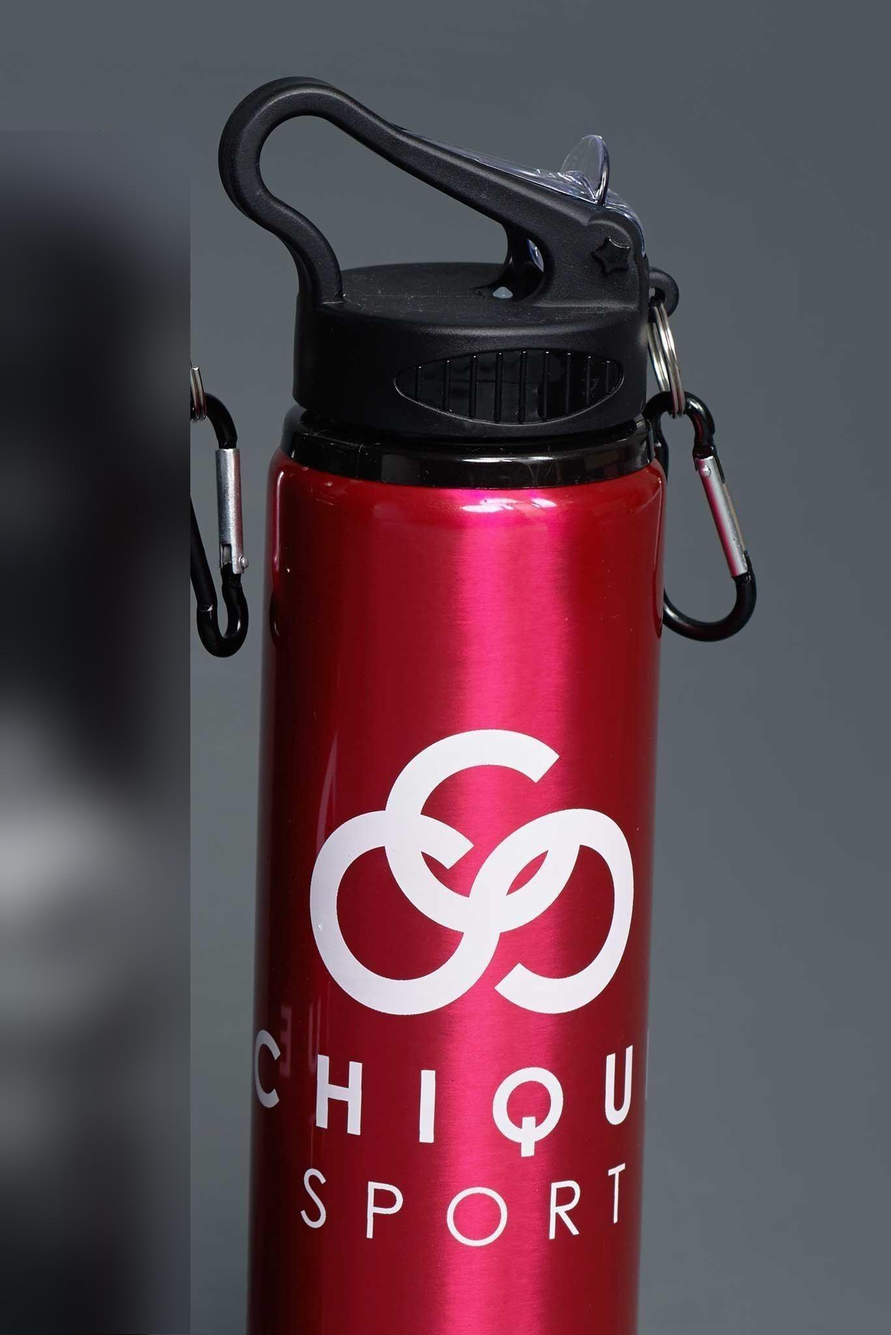gym bottle: (218, 70, 679, 1331)
